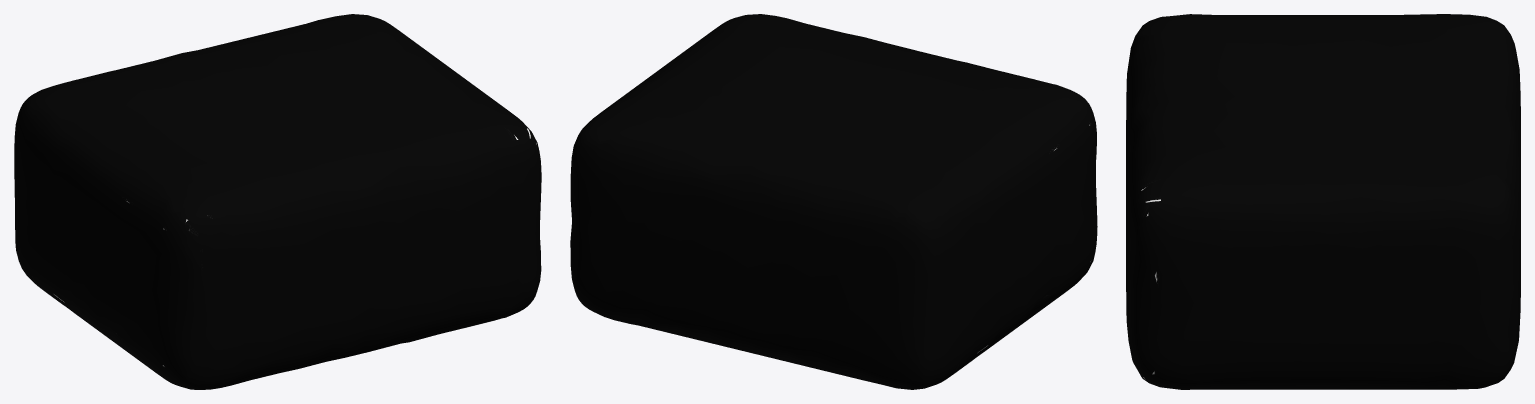
The picture shows the model from 3 angles, left to right: view 1: azimuth 30°, elevation 25°; view 2: azimuth 150°, elevation 25°; view 3: azimuth 270°, elevation 25°; orthographic projection. The views are drawn at different scales.
Visible parts, largest first — view 1: bag_thick_handle_sparse; view 2: bag_thick_handle_sparse; view 3: bag_thick_handle_sparse.
Part boxes in pixels (x1,y1,x2,y2): bag_thick_handle_sparse: [14, 14, 541, 389]; bag_thick_handle_sparse: [570, 14, 1097, 389]; bag_thick_handle_sparse: [1126, 14, 1520, 389].
Size of the model in its own units: 0.5 by 0.3 by 0.42.
